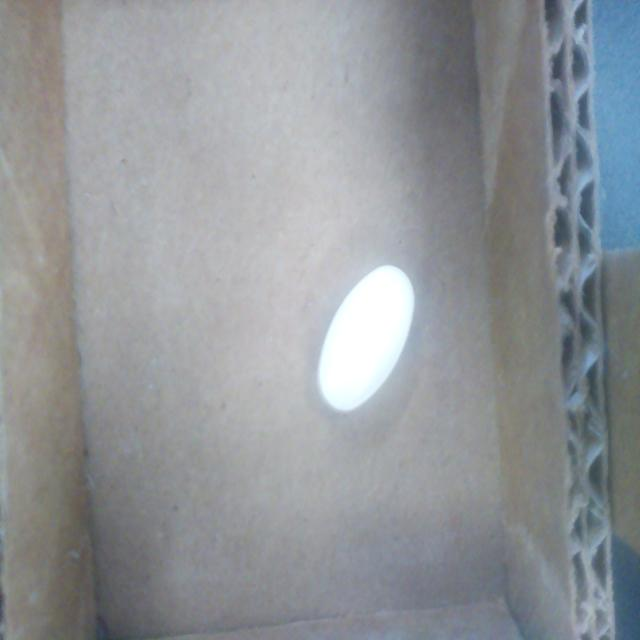pill: (317, 264, 415, 414)
